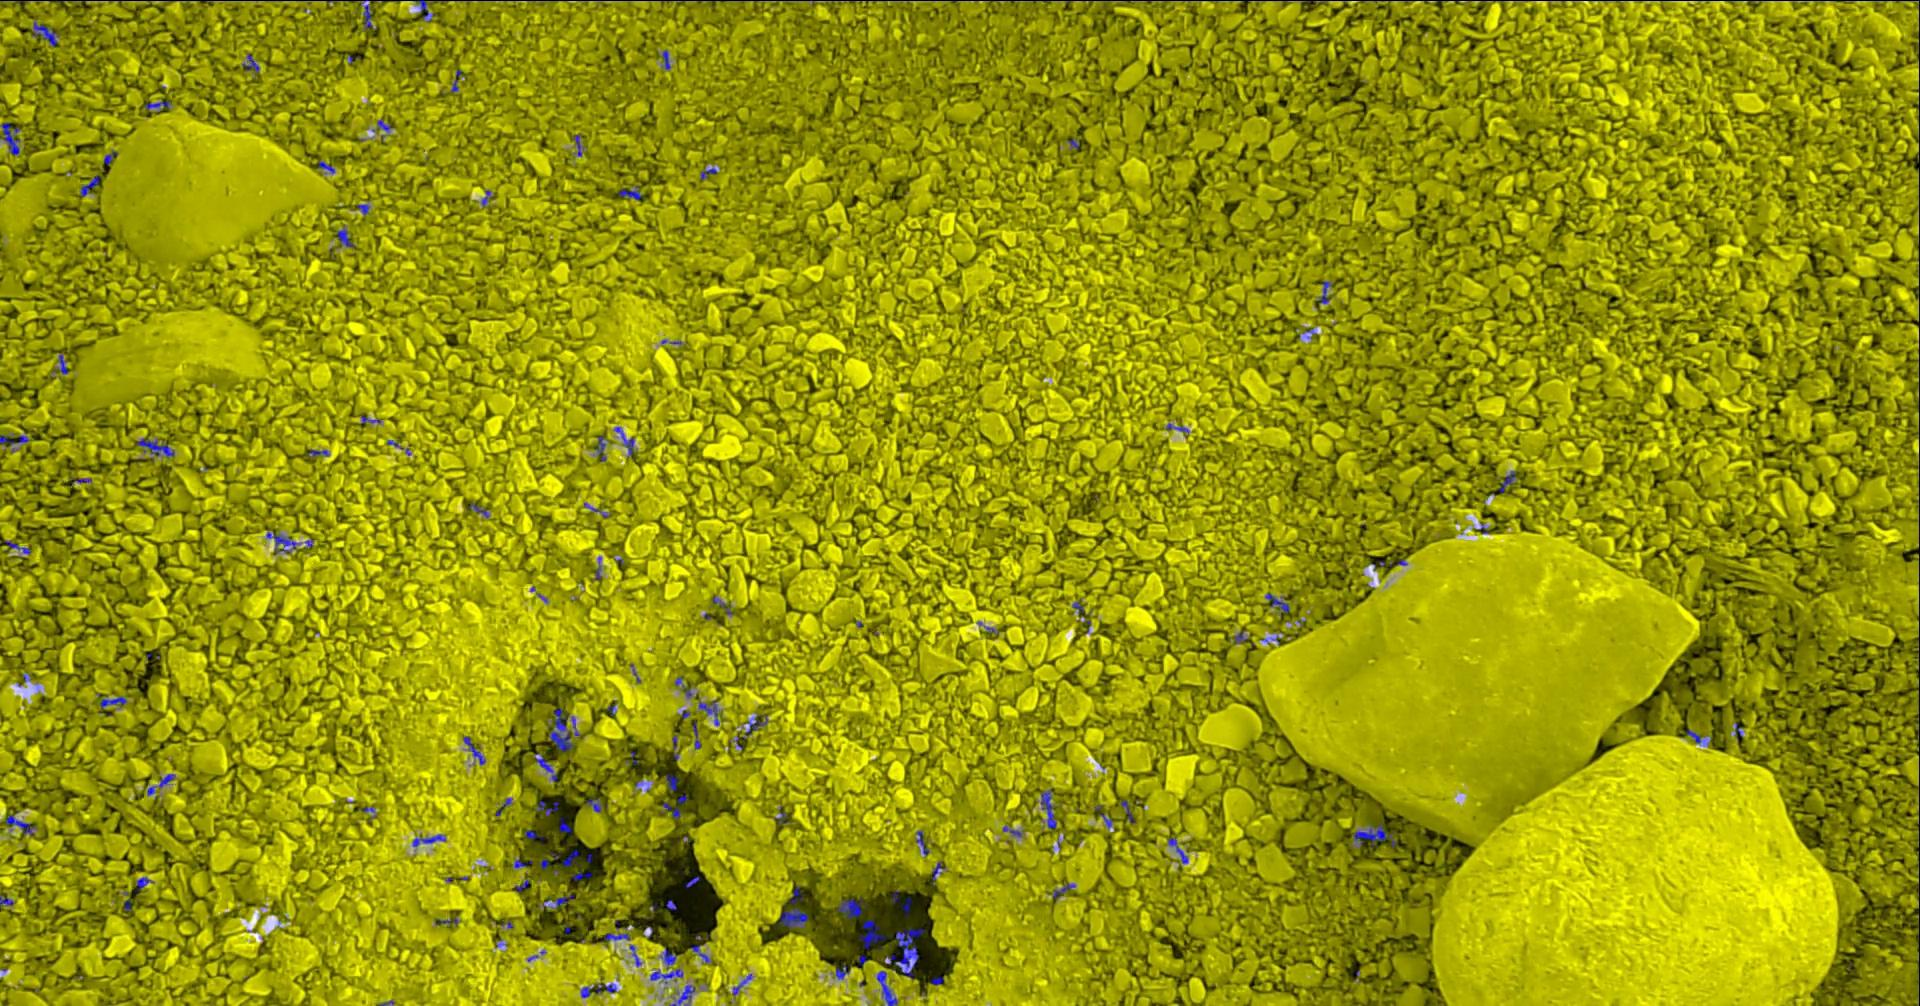ant: (885, 927, 927, 977), (777, 885, 810, 927), (651, 948, 684, 983), (549, 708, 575, 751), (1355, 823, 1397, 847), (735, 715, 770, 743), (861, 920, 891, 949), (138, 438, 177, 461), (877, 970, 899, 1005), (463, 735, 488, 763), (1, 122, 22, 155), (536, 752, 559, 781), (268, 531, 298, 553), (615, 426, 635, 457), (6, 814, 37, 835), (838, 897, 869, 917), (149, 774, 177, 795), (1043, 789, 1058, 828), (33, 22, 58, 44), (700, 700, 723, 725), (670, 984, 697, 1005), (1267, 592, 1291, 614), (893, 889, 913, 915), (582, 983, 618, 997), (1170, 837, 1189, 862), (362, 0, 378, 29), (1, 540, 32, 554), (417, 0, 436, 22), (712, 594, 734, 614), (734, 973, 753, 995), (338, 224, 356, 246), (83, 175, 102, 196), (1500, 470, 1517, 492), (414, 835, 447, 846), (243, 53, 262, 72), (1, 434, 36, 445), (537, 800, 560, 815), (1054, 882, 1077, 897), (618, 185, 643, 199), (1123, 799, 1137, 823), (1319, 281, 1333, 304), (933, 861, 947, 884), (137, 876, 155, 894), (663, 801, 682, 818), (102, 696, 128, 708), (587, 796, 608, 810), (564, 848, 580, 866), (452, 69, 465, 91), (55, 354, 70, 373), (145, 100, 173, 111), (918, 829, 930, 854), (597, 434, 607, 461), (776, 807, 791, 824), (601, 932, 631, 941), (554, 894, 577, 906), (667, 772, 679, 791), (695, 720, 702, 748), (837, 964, 851, 979), (560, 815, 573, 832), (524, 829, 545, 840), (378, 118, 392, 132), (663, 50, 672, 69), (574, 871, 593, 880), (1, 894, 15, 906)
